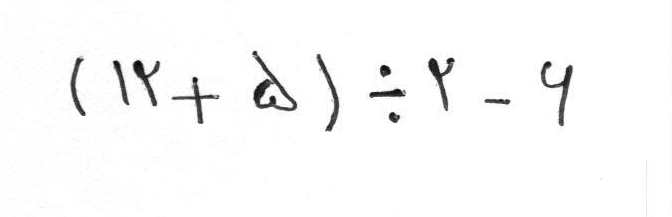character: (251, 50, 299, 112), (112, 59, 161, 109), (172, 76, 221, 125), (541, 61, 574, 130), (316, 53, 344, 134), (369, 64, 405, 125), (132, 60, 163, 111), (429, 57, 456, 115), (70, 56, 87, 119), (484, 97, 512, 108)
